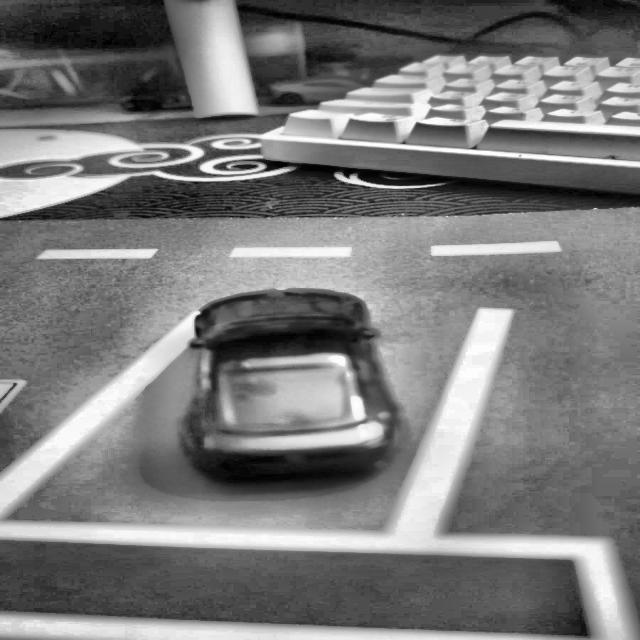car: (178, 288, 400, 478), (268, 78, 366, 104)
